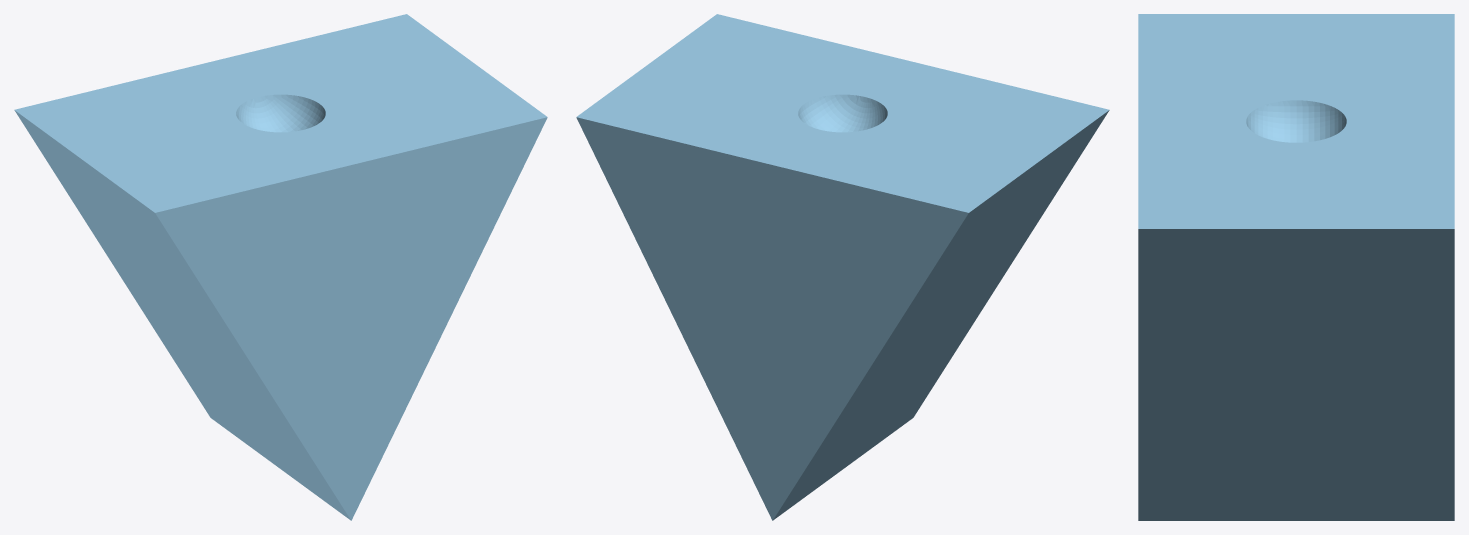
File: triangular_test_block01.dae
The picture shows the model from 3 angles, left to right: view 1: azimuth 30°, elevation 25°; view 2: azimuth 150°, elevation 25°; view 3: azimuth 270°, elevation 25°; orthographic projection. The views are drawn at different scales.
Visible parts, largest first — view 1: ID2; view 2: ID2; view 3: ID2.
Boxes of the visible parts, <box> form: ID2: <box>14,14,547,520</box>; ID2: <box>576,14,1109,520</box>; ID2: <box>1138,14,1454,520</box>.
Size of the model in its own units: 0.1226 by 0.0762 by 0.1062.
